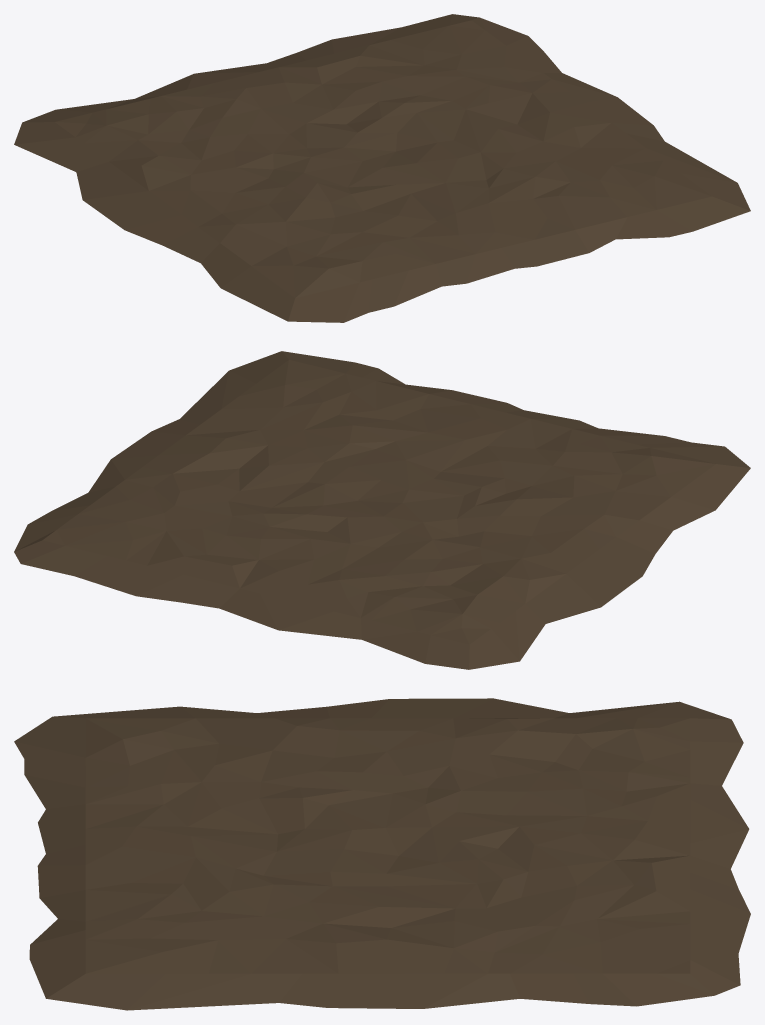
File: SM_Envr_Nature_Farm_Field_02.fbx
The picture shows the model from 3 angles, top to bottom: view 1: azimuth 30°, elevation 25°; view 2: azimuth 150°, elevation 25°; view 3: azimuth 270°, elevation 25°; orthographic projection. The views are drawn at different scales.
Parts seen in each view (by area): view 1: SM_Envr_Nature_Farm_Field_02; view 2: SM_Envr_Nature_Farm_Field_02; view 3: SM_Envr_Nature_Farm_Field_02.
Boxes of the visible parts, box(x1,y1,x2,y2) form: SM_Envr_Nature_Farm_Field_02: box(14, 14, 750, 322); SM_Envr_Nature_Farm_Field_02: box(14, 351, 750, 669); SM_Envr_Nature_Farm_Field_02: box(14, 698, 750, 1010).
Bounding box in the file's own units: 611 × 19.03 × 609.
